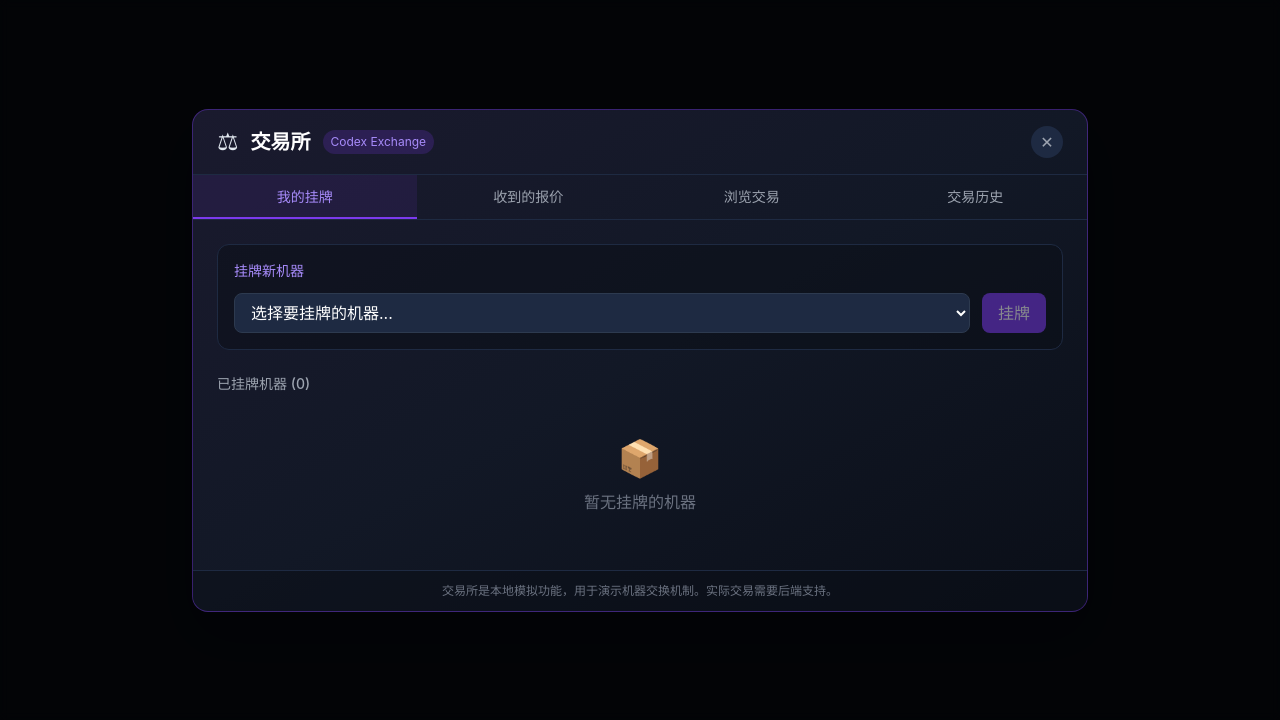
Scenario: ExchangePanel › Empty States (AC-EXCHANGE-UI-027) › should show "暂无交易记录" in history tab when empty
Click the button "交易历史": (975, 196) [864,174,1087,218]
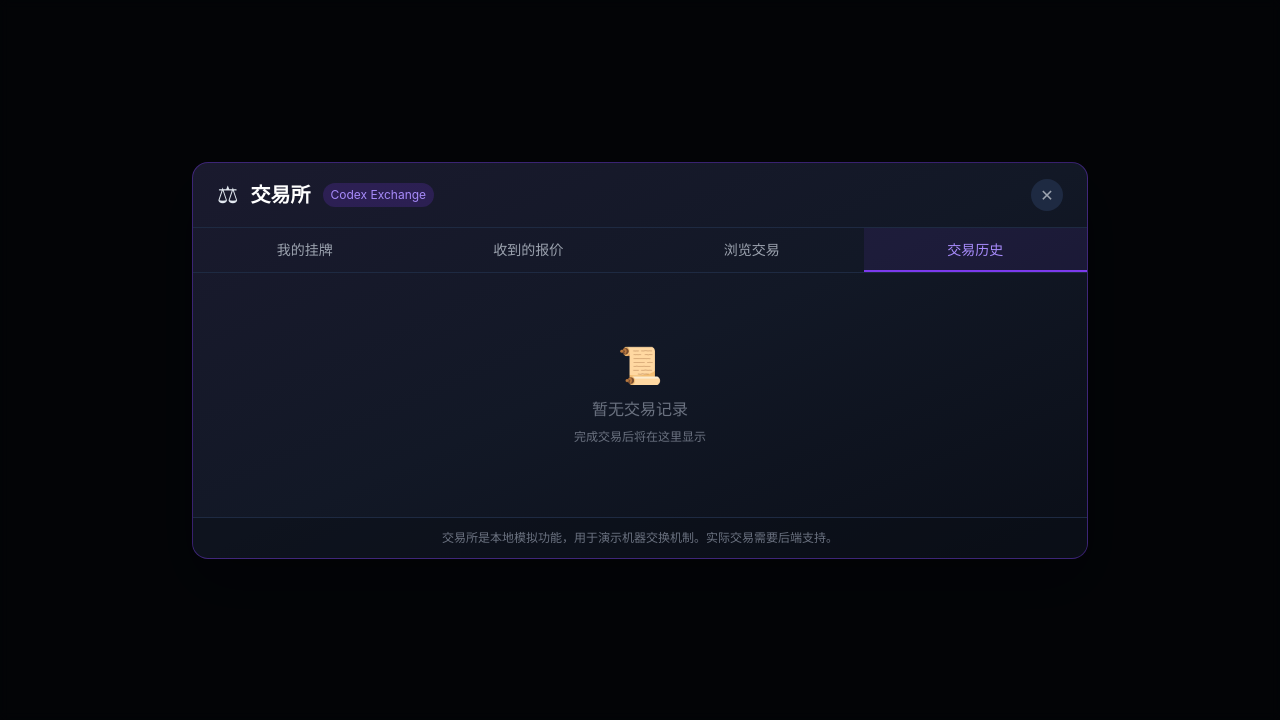
Now the text "暂无交易记录" is shown, box [592,398,688,418]
